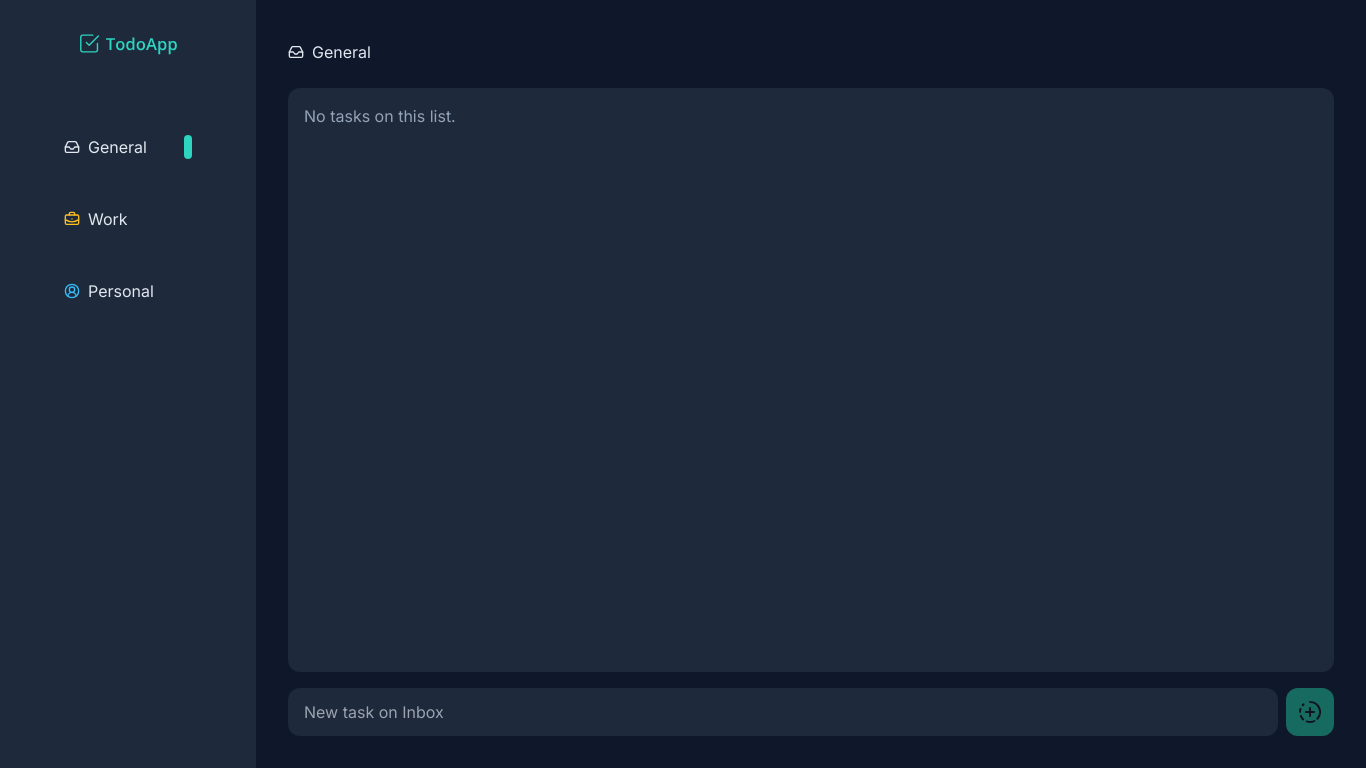
Test case: Tasks › should remove a task
Type "Automatically created task 001" into the field named "task-title".
click(783, 712); type("Automatically created task 001")  # box [288, 688, 1278, 736]
Then press Enter
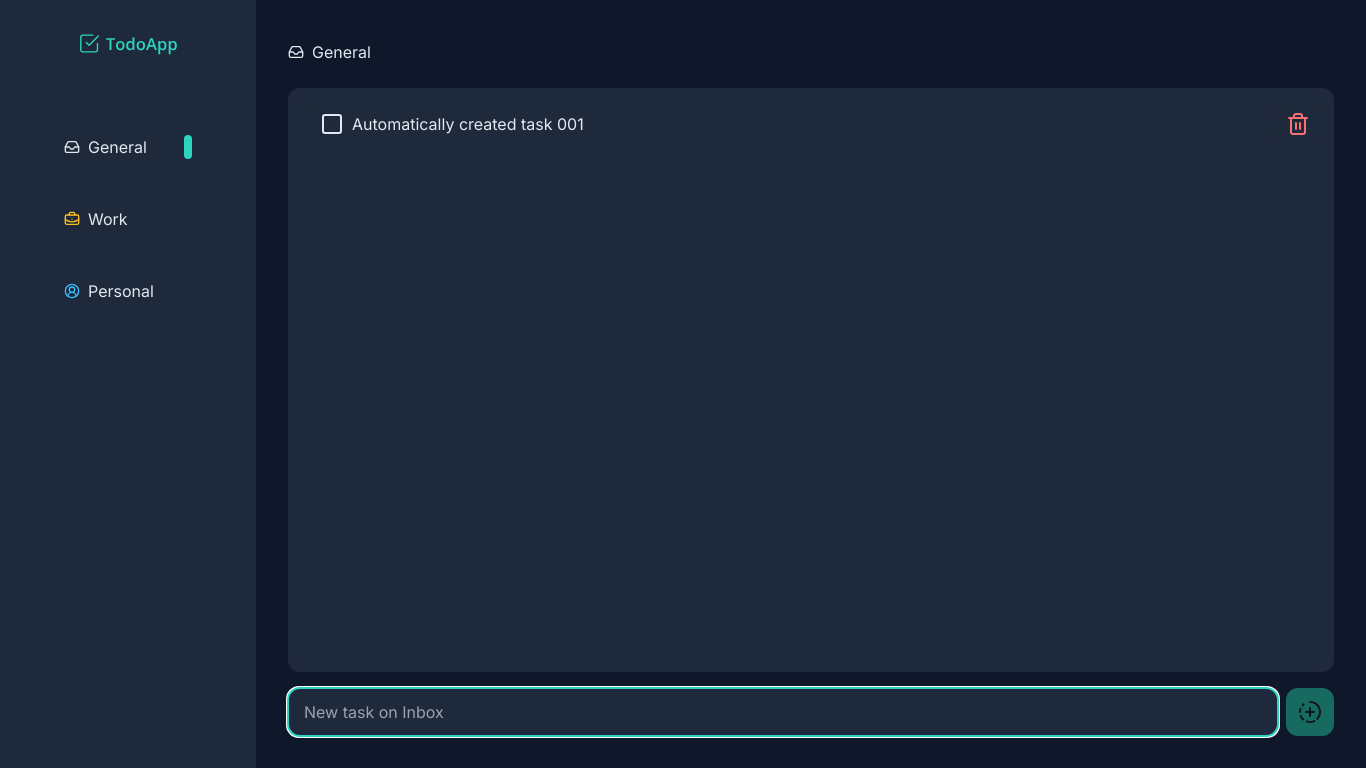
Open "/"
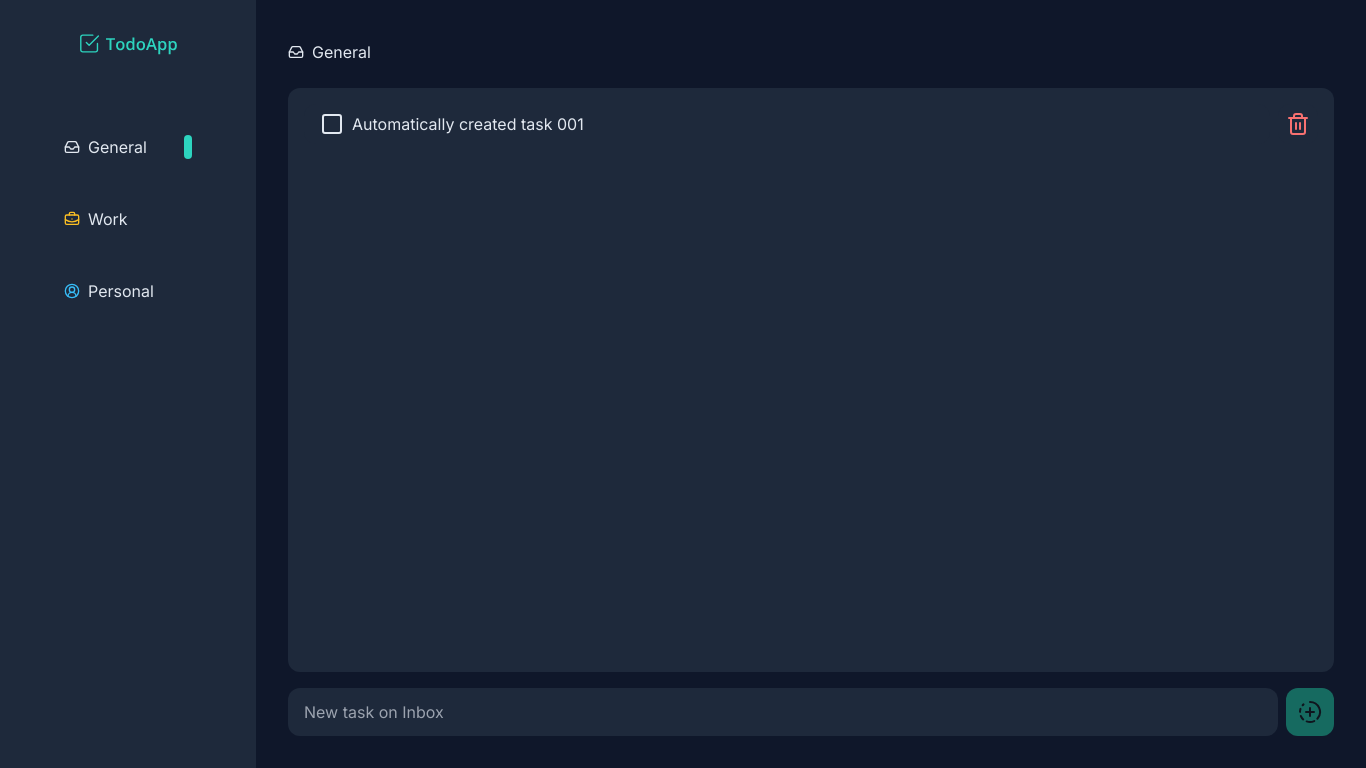
Expected: the button "Automatically created task 001" is shown, [304, 104, 1270, 144]
Click the button with id "delete-task-button".
click(1298, 124)  # box [1278, 104, 1318, 144]
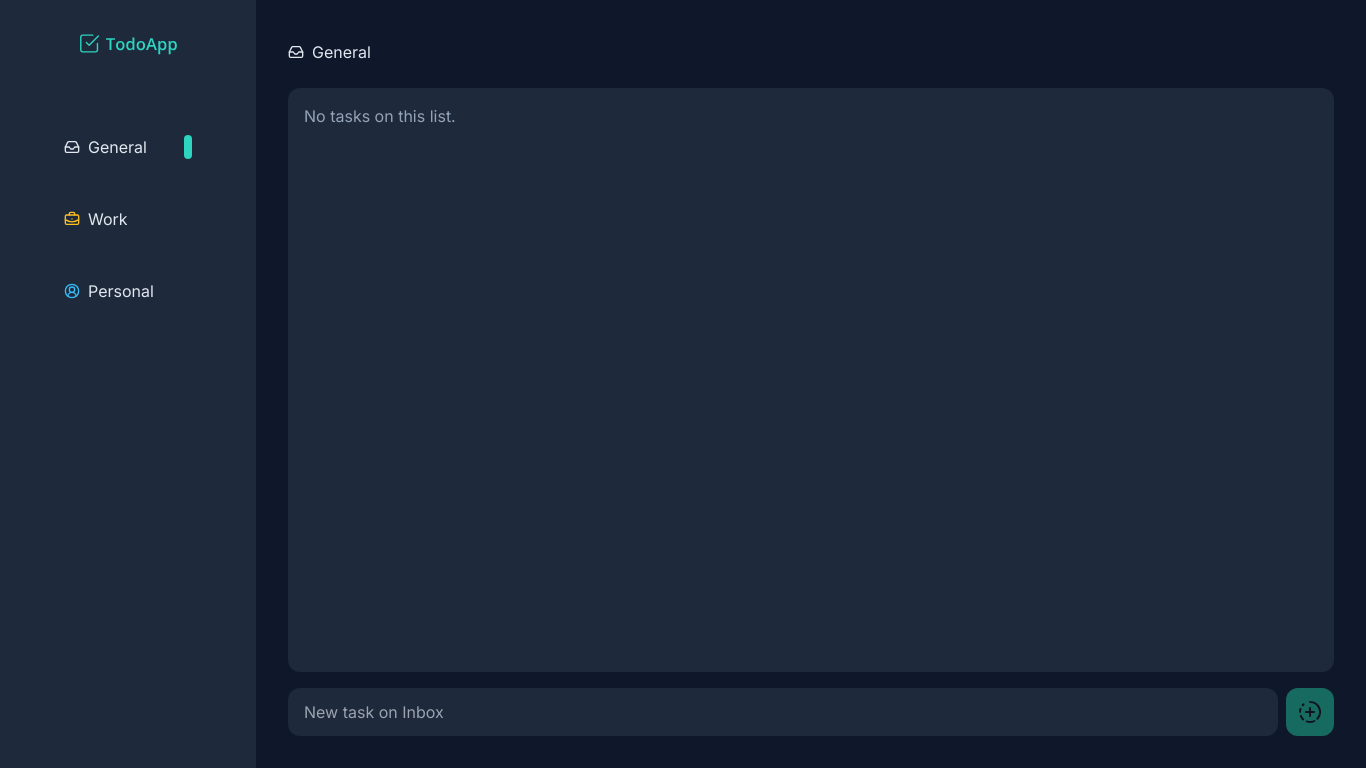
Expected: the button "Automatically created task 001" is gone
